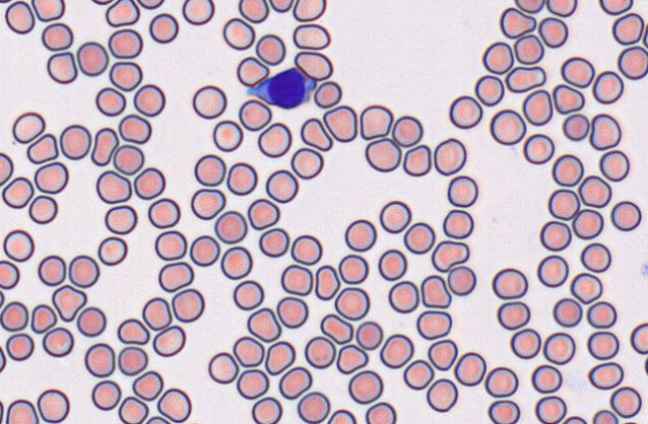LYM: (252, 66, 316, 109)
RBC: (489, 109, 526, 145), (322, 104, 357, 142), (51, 284, 86, 321), (365, 137, 401, 172), (433, 137, 466, 175), (246, 307, 281, 342), (348, 369, 383, 404), (359, 104, 393, 140), (379, 333, 413, 368), (157, 387, 191, 422), (334, 286, 369, 320), (257, 122, 291, 157), (192, 84, 226, 119), (499, 6, 536, 38), (589, 113, 621, 150), (294, 50, 333, 80), (453, 351, 486, 386), (36, 388, 69, 423), (96, 170, 131, 203), (491, 267, 527, 299), (504, 65, 545, 93), (278, 366, 312, 399), (34, 161, 68, 194), (171, 288, 204, 322), (265, 169, 298, 203), (448, 95, 482, 128), (59, 124, 91, 159), (76, 41, 108, 76), (522, 89, 553, 125), (578, 174, 611, 207), (214, 210, 247, 243), (238, 98, 271, 131), (426, 378, 458, 412), (296, 391, 330, 423), (220, 245, 252, 279), (560, 56, 594, 88), (158, 261, 193, 292), (264, 340, 295, 375), (190, 188, 225, 219), (84, 342, 115, 377), (12, 111, 45, 143), (290, 147, 323, 179), (551, 153, 583, 186), (403, 221, 435, 254), (222, 17, 254, 50), (379, 200, 411, 233), (133, 166, 165, 199), (133, 83, 165, 116), (543, 331, 575, 364), (344, 218, 376, 251), (194, 153, 226, 186), (609, 386, 642, 418), (612, 12, 644, 45), (420, 274, 451, 308), (4, 0, 35, 34), (484, 366, 518, 397), (592, 70, 623, 104), (226, 161, 257, 195), (108, 28, 143, 58), (2, 176, 34, 208), (570, 272, 602, 304), (276, 296, 308, 328), (548, 188, 580, 220), (236, 368, 269, 399), (207, 351, 238, 384), (152, 325, 185, 356), (68, 254, 99, 287), (304, 335, 335, 368), (247, 198, 280, 229), (388, 280, 419, 313), (3, 229, 34, 262), (280, 264, 313, 295), (147, 197, 180, 228), (118, 113, 151, 144), (236, 56, 269, 87), (537, 254, 568, 287), (46, 51, 77, 84), (482, 41, 513, 74), (212, 119, 243, 152), (142, 296, 172, 330), (617, 45, 647, 79), (416, 310, 451, 339), (42, 326, 74, 357), (112, 144, 144, 175), (232, 279, 264, 310), (509, 328, 541, 359), (233, 335, 264, 367), (189, 234, 220, 266), (539, 220, 571, 251), (522, 133, 554, 164), (290, 234, 322, 265), (391, 115, 423, 146), (447, 175, 478, 207), (552, 83, 584, 114), (537, 16, 568, 48), (154, 230, 187, 260), (109, 61, 142, 91), (104, 204, 137, 234), (292, 23, 330, 49), (496, 301, 530, 330), (588, 361, 623, 389), (403, 359, 434, 390), (572, 208, 603, 239), (610, 200, 641, 231), (336, 344, 368, 374), (599, 149, 629, 181), (474, 74, 504, 106), (255, 33, 285, 65), (427, 339, 457, 370), (91, 379, 121, 410), (132, 370, 163, 400), (76, 306, 106, 337), (95, 86, 126, 116), (338, 253, 368, 284), (513, 34, 544, 64), (258, 227, 289, 257), (580, 242, 611, 272), (378, 248, 407, 280), (37, 254, 66, 286), (587, 331, 619, 360), (402, 144, 431, 176), (552, 297, 582, 327), (531, 364, 562, 393), (117, 346, 148, 375), (442, 209, 473, 238), (534, 395, 566, 423), (41, 22, 73, 50), (105, 0, 139, 26), (28, 194, 57, 224), (447, 265, 476, 295), (97, 236, 127, 265), (149, 13, 178, 43), (0, 300, 28, 331), (355, 320, 383, 350), (586, 300, 616, 328), (251, 396, 282, 423), (117, 318, 149, 344), (5, 332, 34, 360), (313, 80, 342, 108), (30, 303, 57, 333), (118, 396, 148, 423), (182, 0, 214, 25), (487, 399, 520, 423), (5, 399, 38, 423), (562, 113, 589, 141), (31, 0, 65, 21), (292, 0, 326, 21), (238, 0, 268, 23), (365, 401, 396, 423), (0, 259, 19, 289), (630, 322, 647, 354), (546, 0, 577, 17), (599, 0, 633, 15), (327, 408, 356, 423), (0, 152, 13, 185), (514, 0, 544, 13), (592, 409, 618, 423), (269, 0, 293, 12), (137, 0, 164, 9), (561, 415, 587, 423), (145, 415, 170, 423), (0, 345, 6, 373), (642, 21, 648, 48), (640, 260, 647, 278), (90, 0, 113, 5), (643, 355, 648, 376), (0, 399, 4, 423), (0, 289, 5, 308), (181, 420, 204, 424), (620, 420, 641, 424), (0, 0, 12, 3)
Schistocyte: (430, 239, 472, 273), (300, 116, 334, 152), (92, 125, 119, 167), (25, 133, 60, 165)
